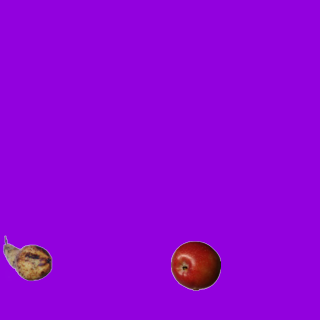Apple Braeburn: (170, 240, 220, 290)
Pear Abate: (2, 233, 52, 283)
